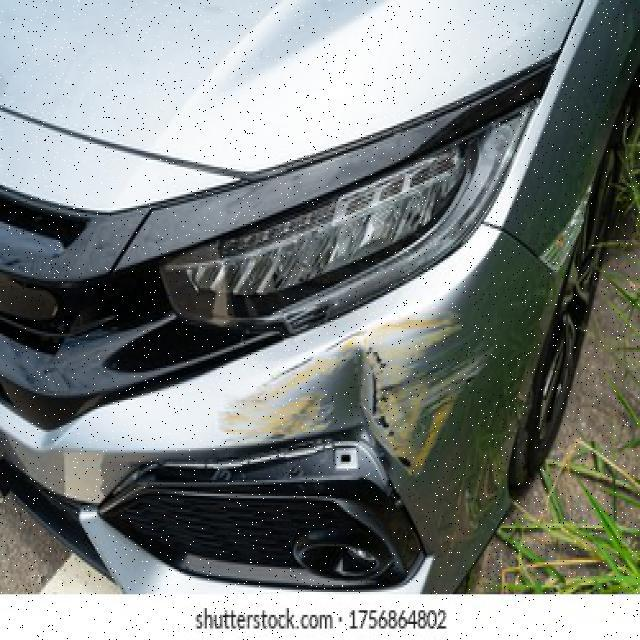front-bumper-dent: (30, 303, 530, 575)
